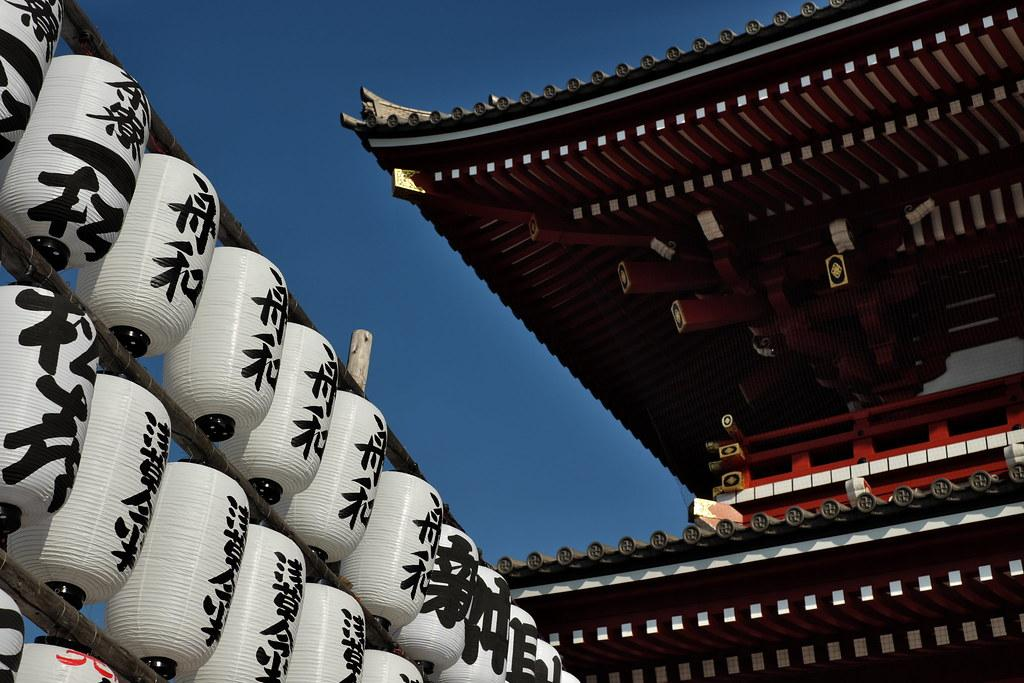temple: (338, 1, 1023, 682)
